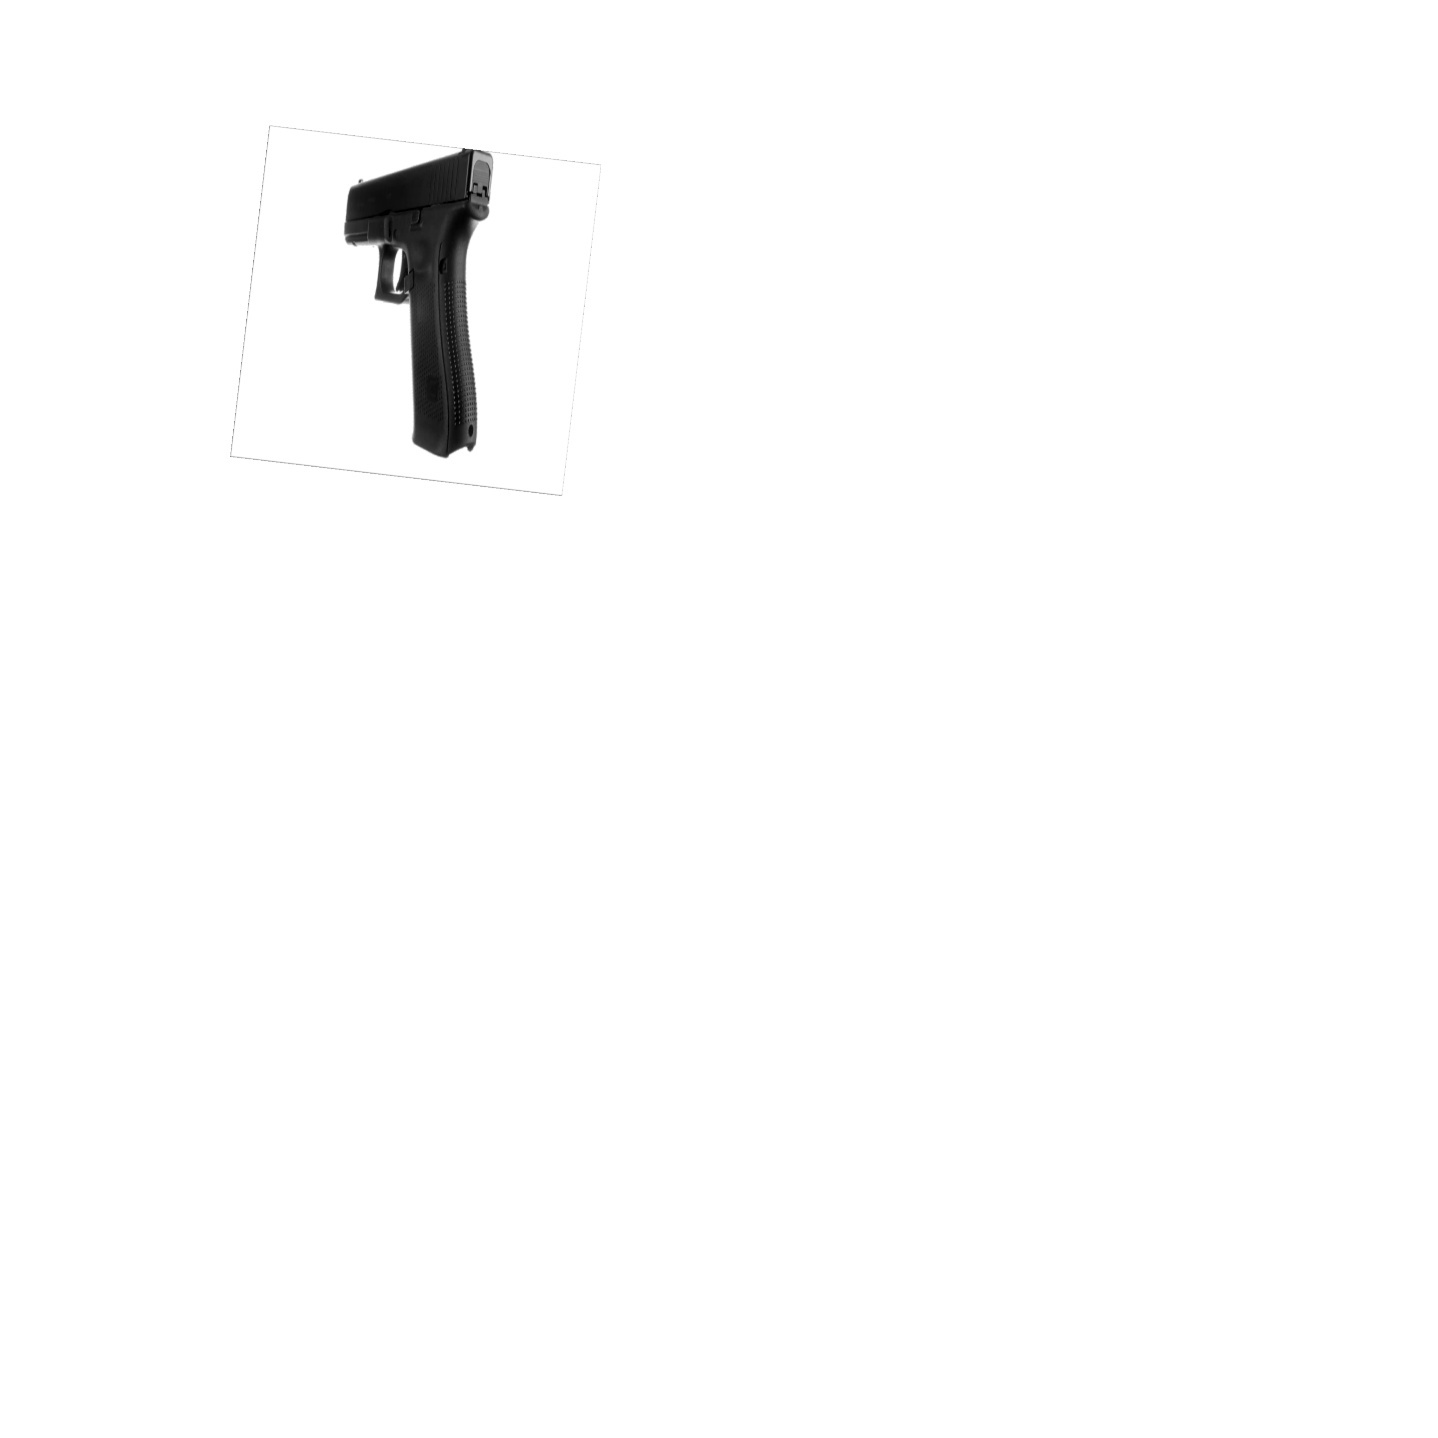gun: (346, 149, 493, 458)
